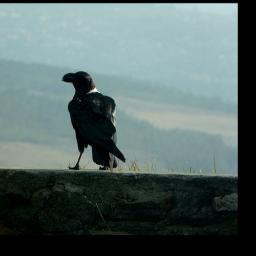Crow: (60, 70, 127, 171)
